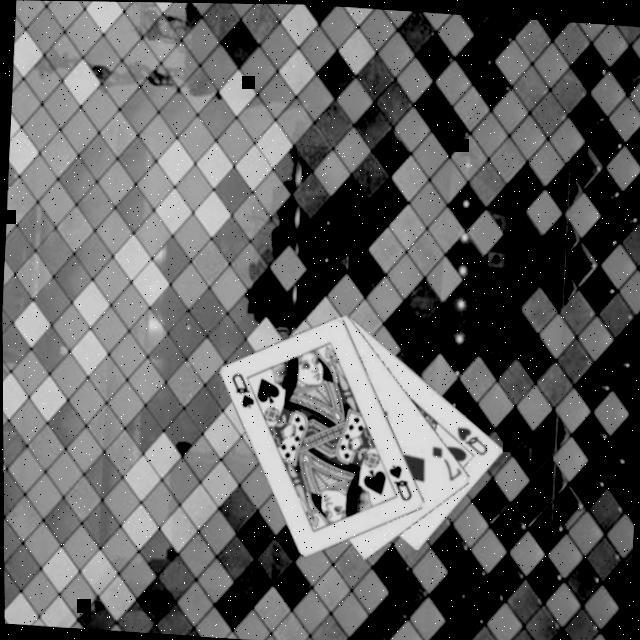7D: (427, 441, 463, 484)
QH: (450, 423, 490, 458)
QS: (383, 460, 415, 504), (226, 369, 258, 412)
